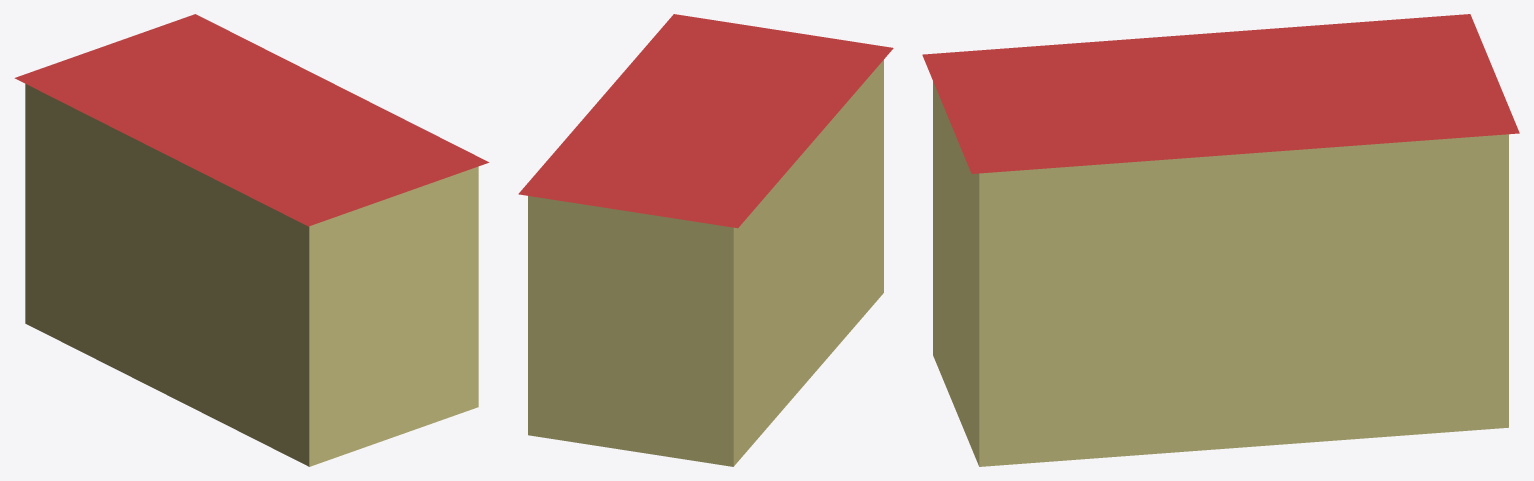
3 renders of one model, left to right at view 1: azimuth 30°, elevation 25°; view 2: azimuth 150°, elevation 25°; view 3: azimuth 270°, elevation 25°, orthographic. The views are drawn at different scales.
Size of the model in its own units: 10.04 by 15.84 by 8.7.
